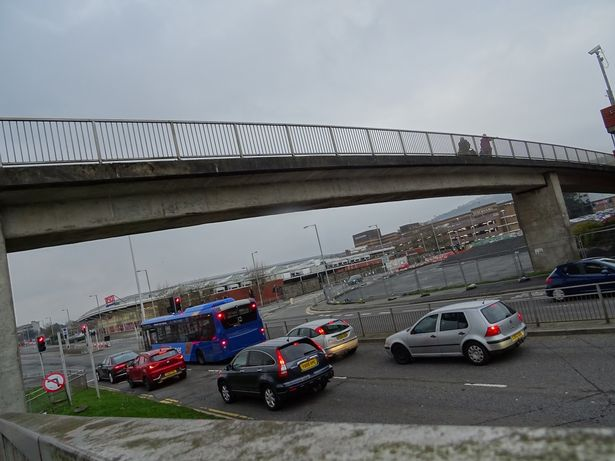bridge: (6, 118, 614, 265)
